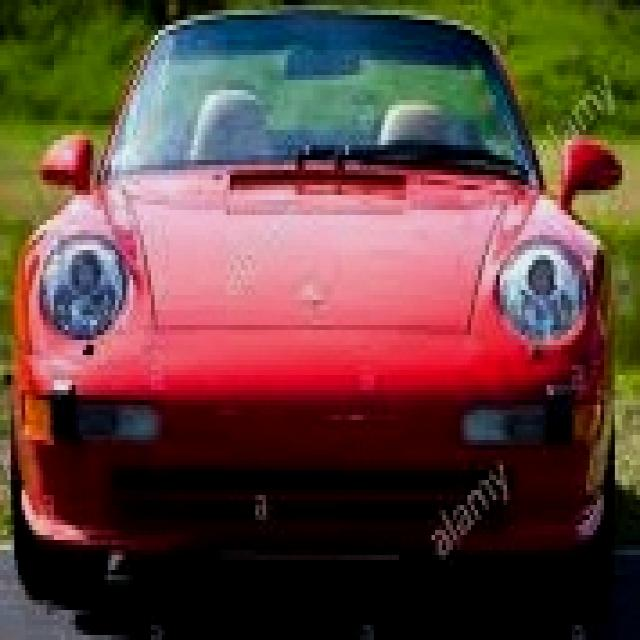red: (11, 6, 618, 576)
